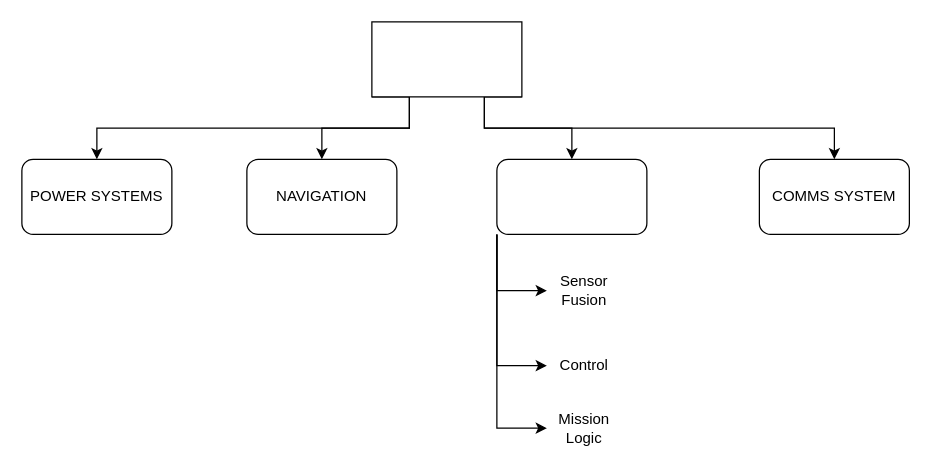
The diagram is 931 pixels wide and 469 high, and some of its shapes have lost their labels. The box of each missing label's shape, as (x1, y1, x2, y2) in pixels:
DRONE: (371, 21, 522, 97)
FLIGHT COMPUTER: (496, 158, 647, 234)
